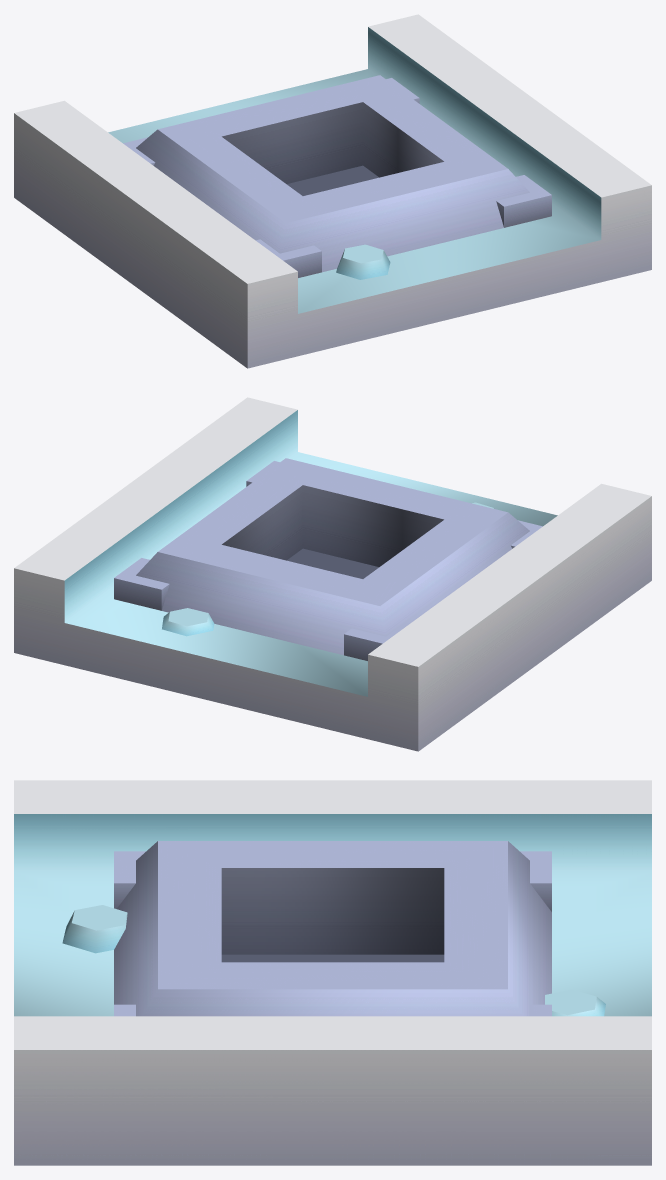
File: snow-tile-spawn.glb
3 renders of one model, top to bottom at view 1: azimuth 30°, elevation 25°; view 2: azimuth 150°, elevation 25°; view 3: azimuth 270°, elevation 25°, orthographic. The views are drawn at different scales.
Parts seen in each view (by area): view 1: snow-tile-spawn; view 2: snow-tile-spawn; view 3: snow-tile-spawn.
Boxes of the visible parts, x1=… form: snow-tile-spawn: x1=14, y1=14, x2=651, y2=368; snow-tile-spawn: x1=14, y1=397, x2=651, y2=751; snow-tile-spawn: x1=14, y1=780, x2=651, y2=1165.
Bounding box in the file's own units: 1 × 0.2 × 1.
1 material, 1 textured.
